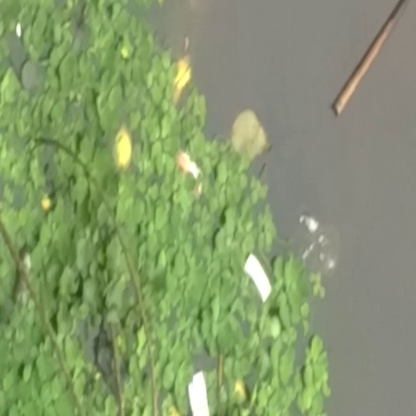branch: (328, 1, 406, 121)
